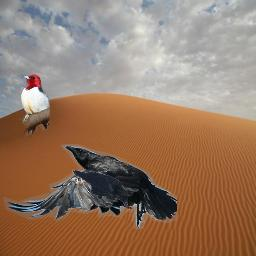Crow: (3, 144, 177, 229), (72, 170, 128, 208)
Woodpecker: (19, 74, 51, 138)
